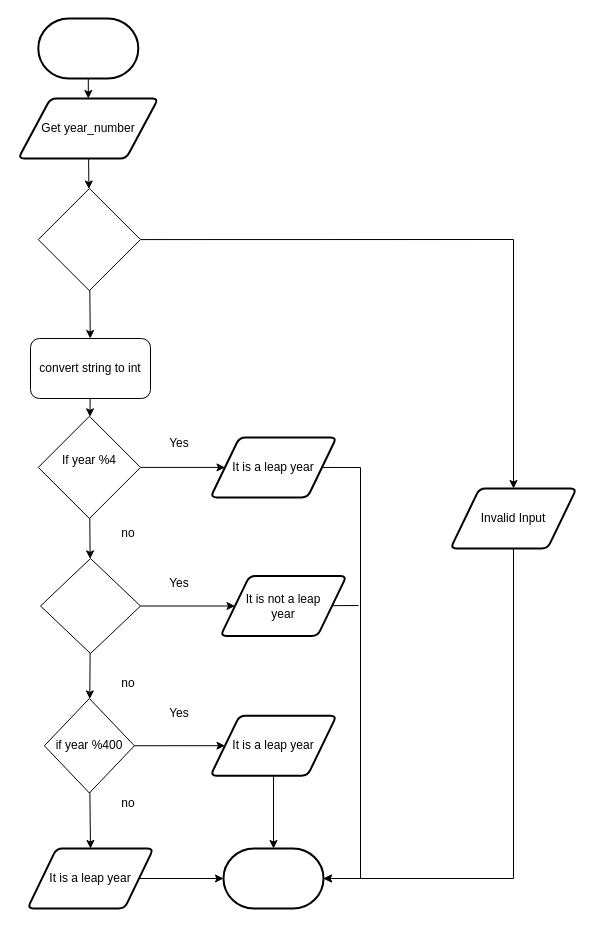
Image size: 595x926. Some labels were removed from this diagram. Here are the shapes that lost their labels. From the top down, the centre of each, then its label:
the point at 88,48: Start
the point at 88,239: Try
the point at 90,606: if year %100
the point at 273,878: stop
